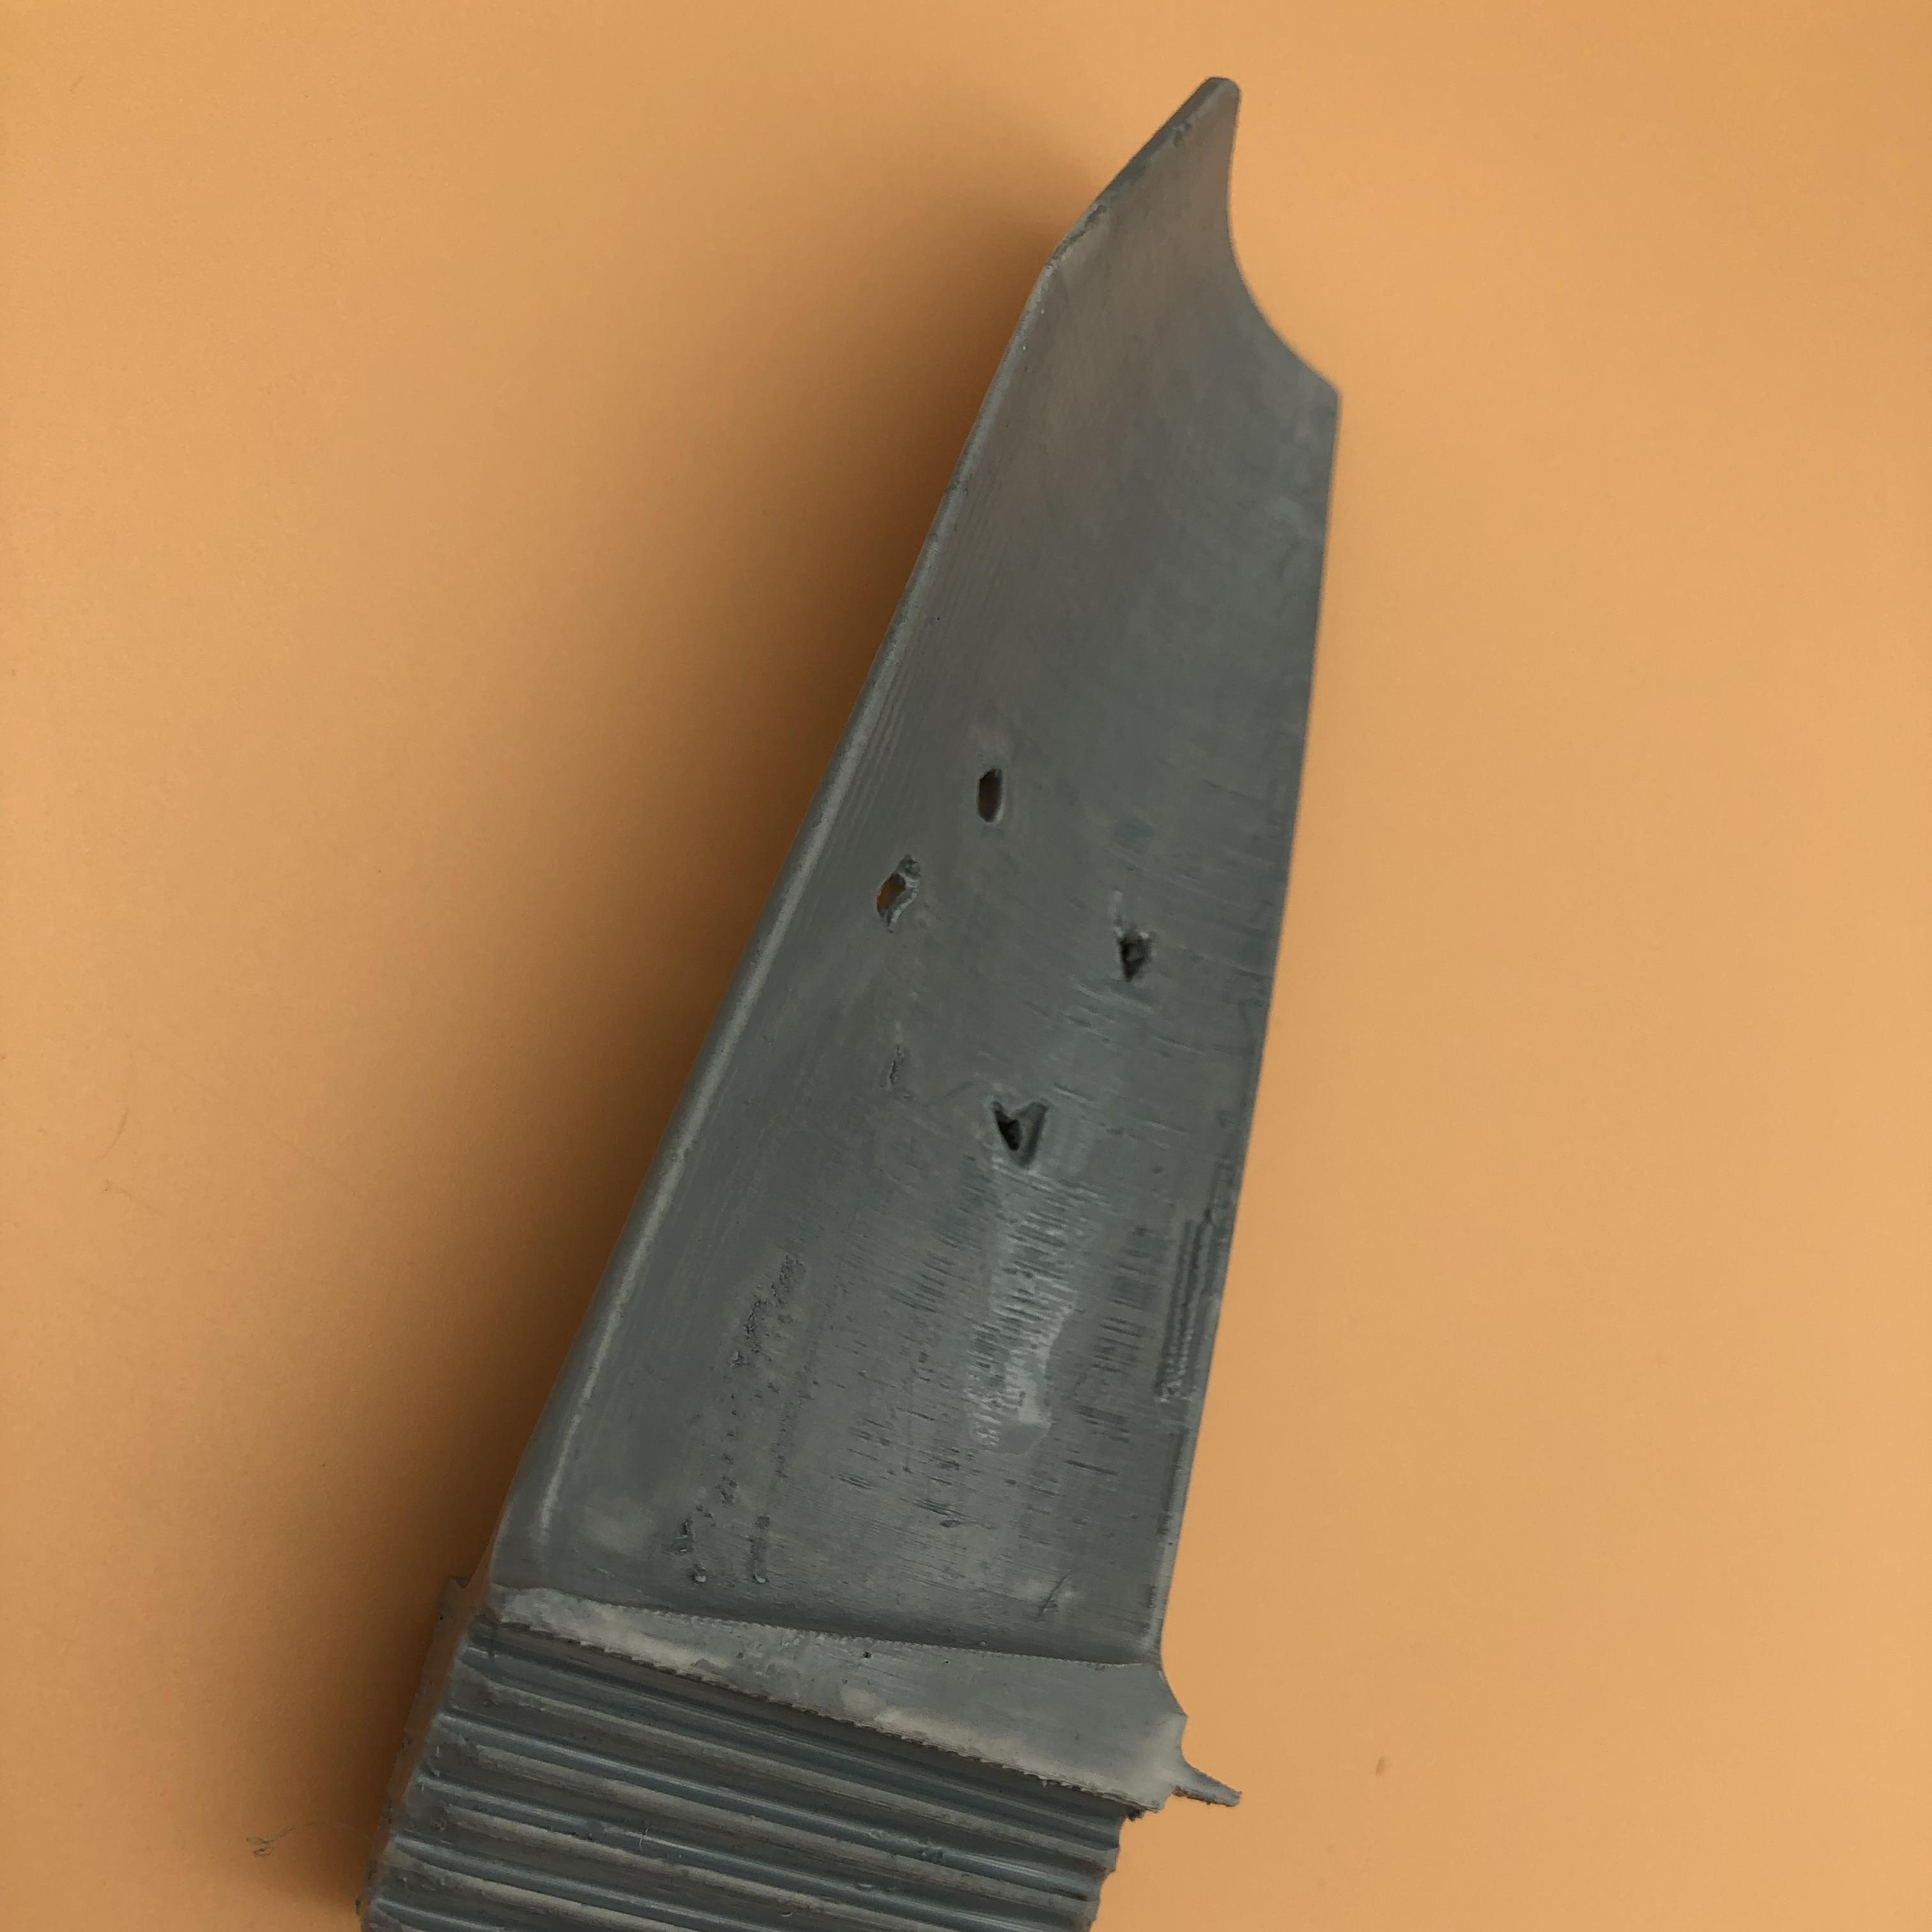breakdown: (883, 766, 1033, 934), (980, 1088, 1054, 1171), (1097, 925, 1178, 987)
